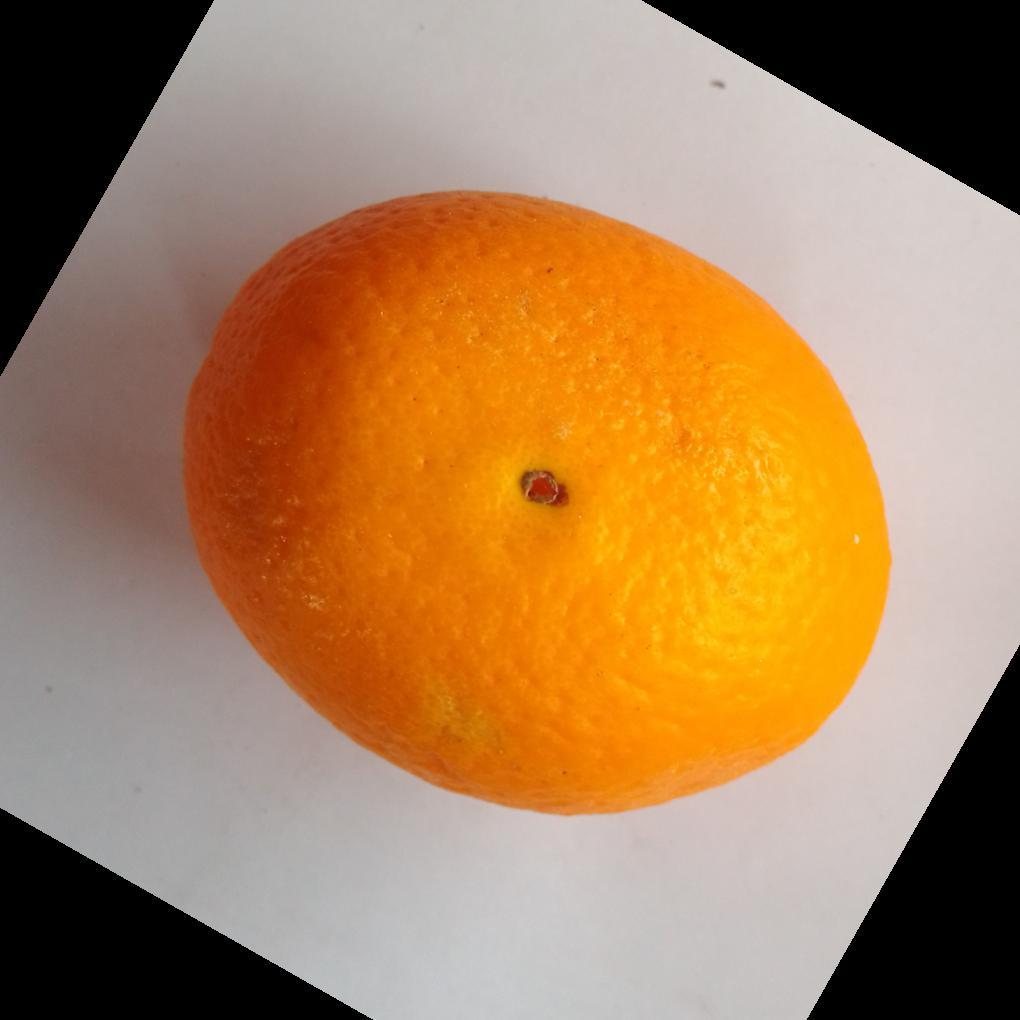FreshGuava: (179, 190, 894, 820)
